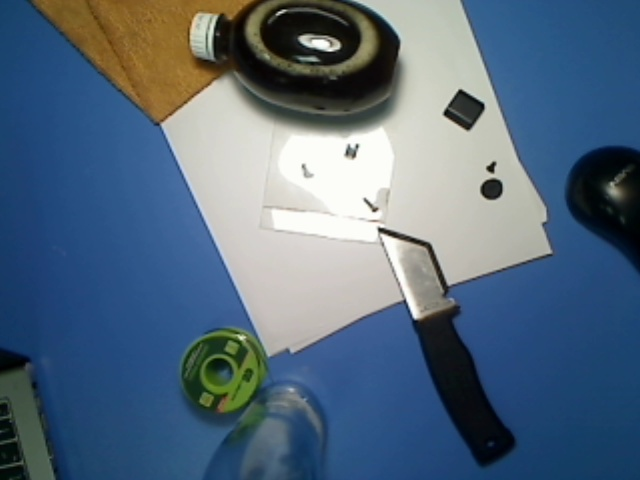plast_bottle: (184, 1, 408, 119)
